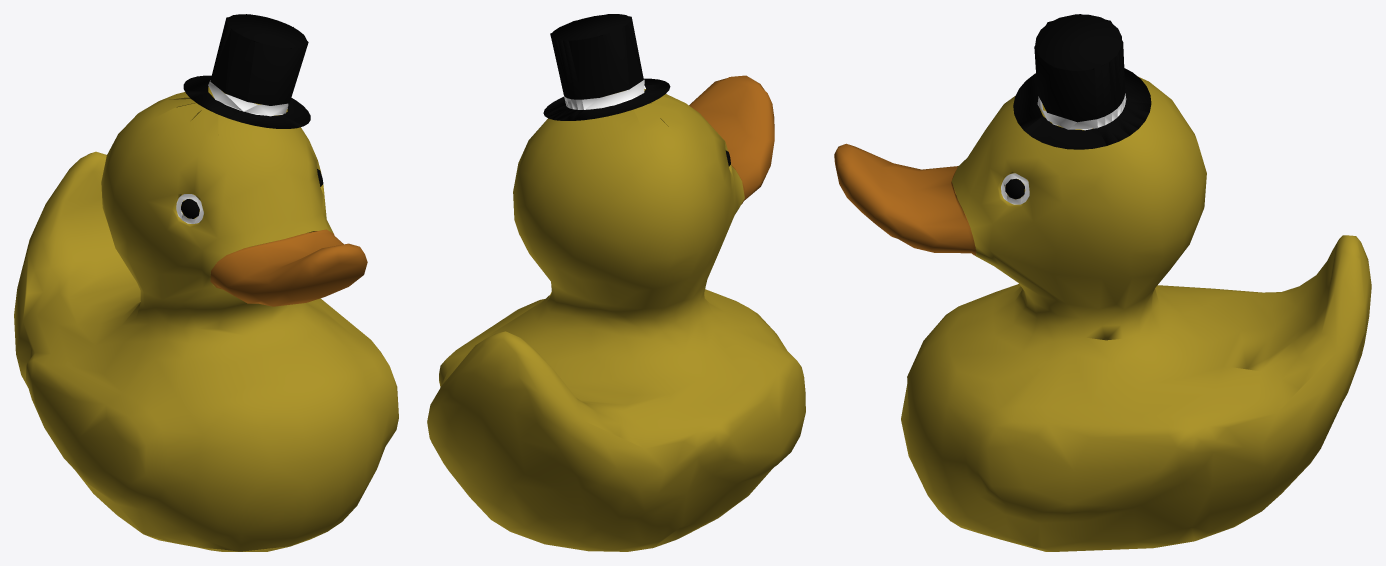
The model's file is DuckieWithHatwhole.glb.
3 views of the same model, side by side, from view 1: azimuth 30°, elevation 25°; view 2: azimuth 150°, elevation 25°; view 3: azimuth 270°, elevation 25° (orthographic). The views are drawn at different scales.
Visible parts, largest first — view 1: Duck; view 2: Duck; view 3: Duck.
Part boxes in pixels (box(x1,y1,x2,y2)): Duck: box(14, 14, 398, 551); Duck: box(427, 14, 805, 551); Duck: box(834, 14, 1371, 551).
Bounding box in the file's own units: 0.2852 × 0.4436 × 0.4282.
